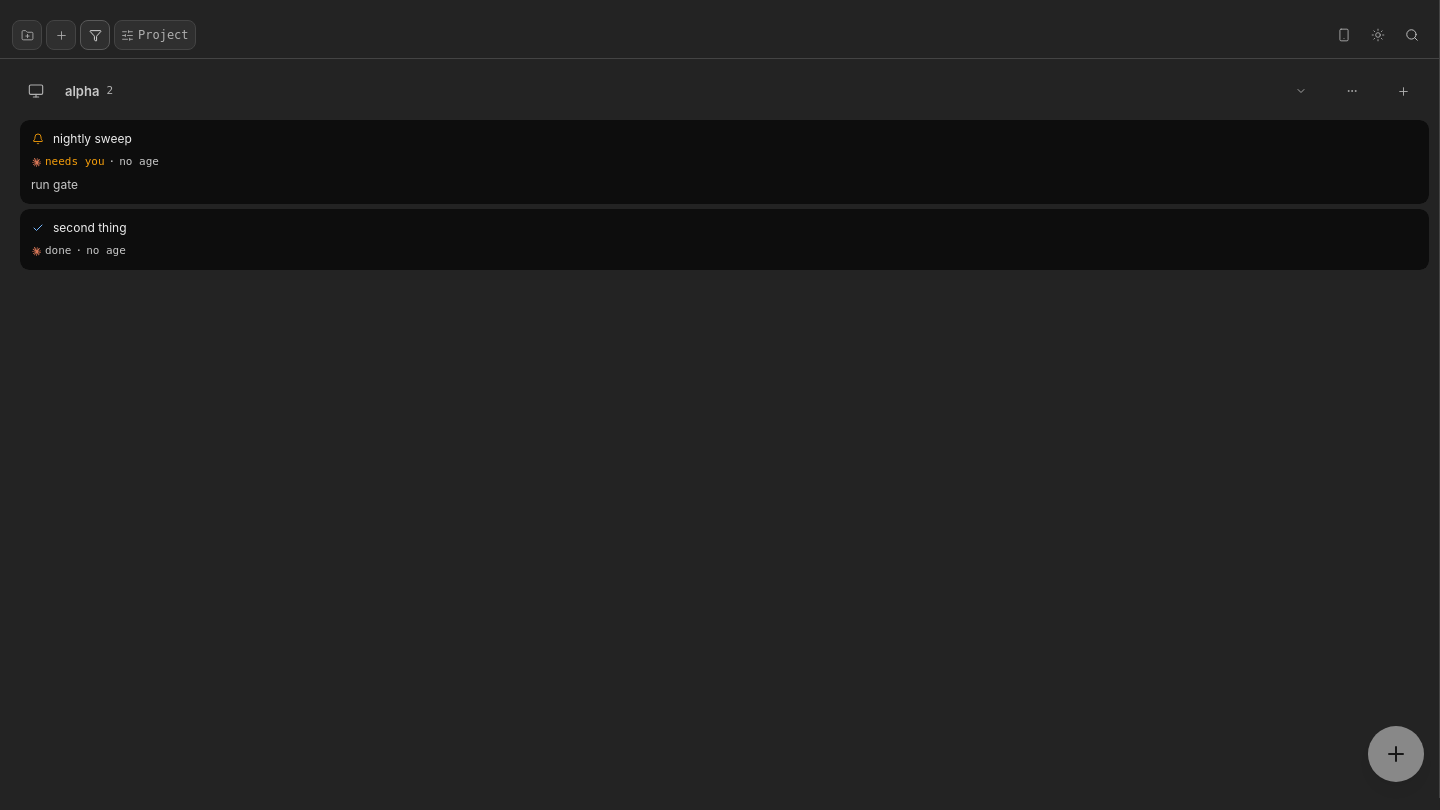
Test case: the overlays at phone width › leaves the anchored filter popover alone — it belongs to its control
What coordinates should you click on to do the following:
click the button named "filter sessions"
I would click on:
 (95, 35)
Its box is [80, 20, 110, 50].
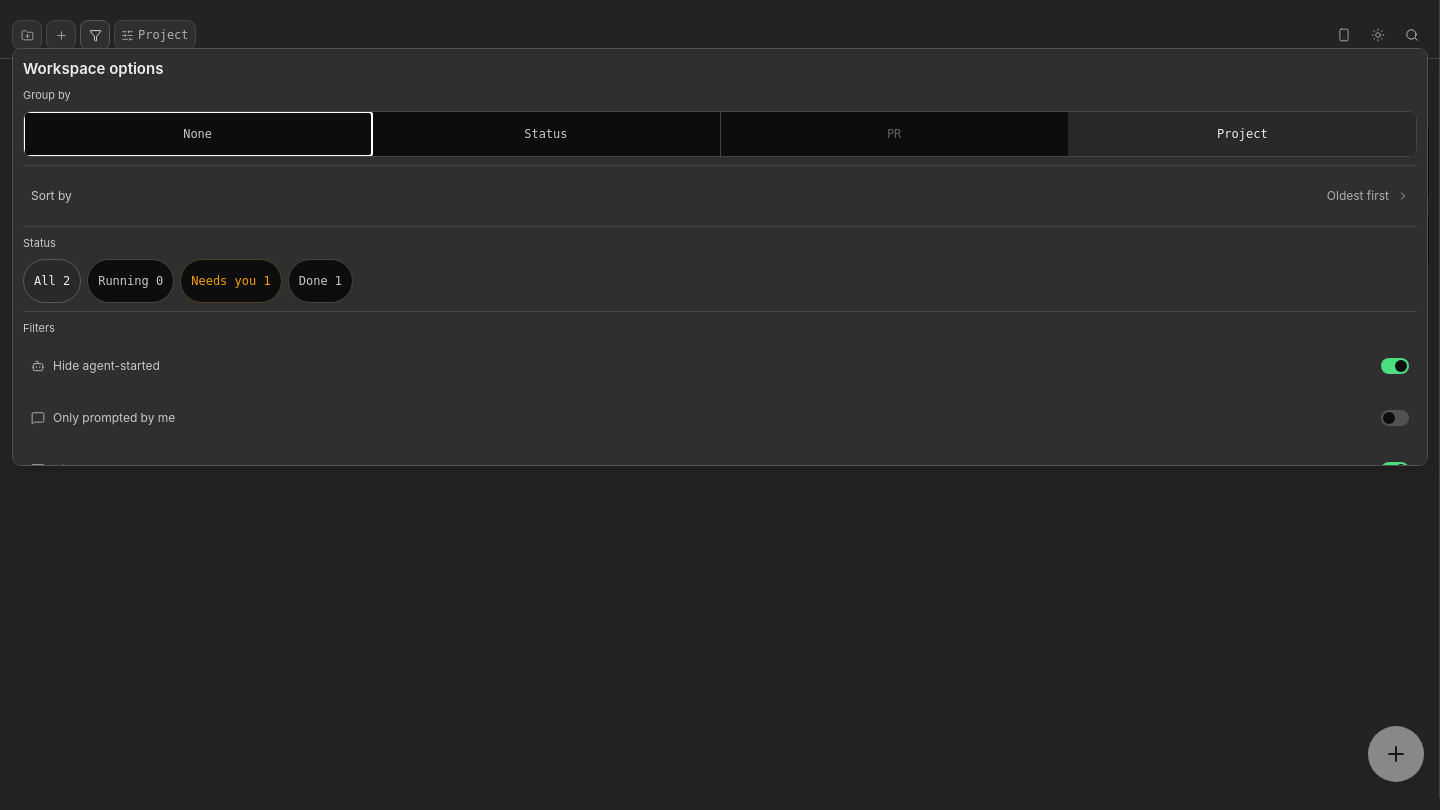
Now the dialog is shown, box [12, 48, 1428, 466]
